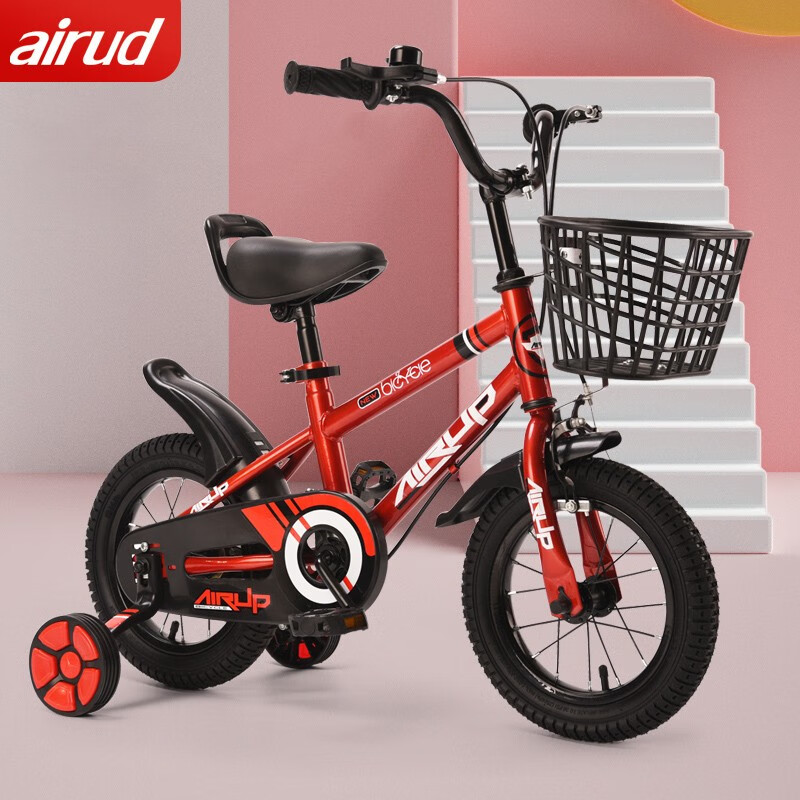MNV: (80, 61, 734, 749)
